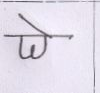e_matra: (18, 13, 51, 35)
